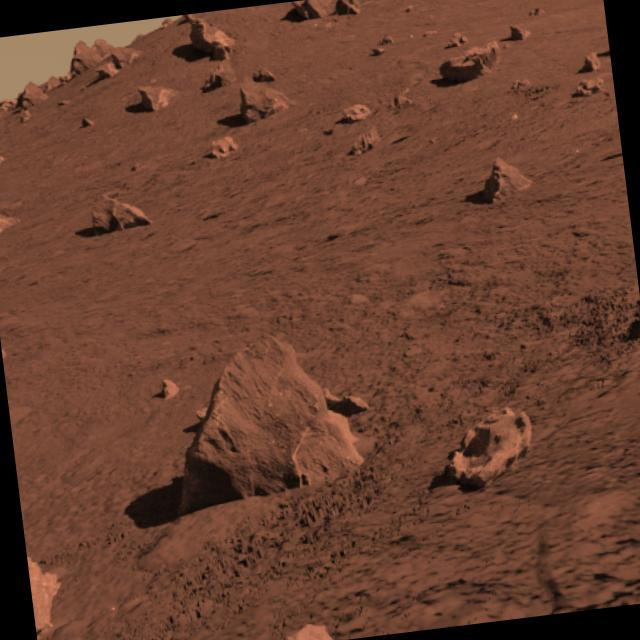rock: (166, 319, 377, 516), (432, 397, 550, 498), (72, 182, 161, 239), (471, 146, 543, 214), (422, 37, 510, 91), (228, 69, 297, 127), (180, 9, 247, 66)
